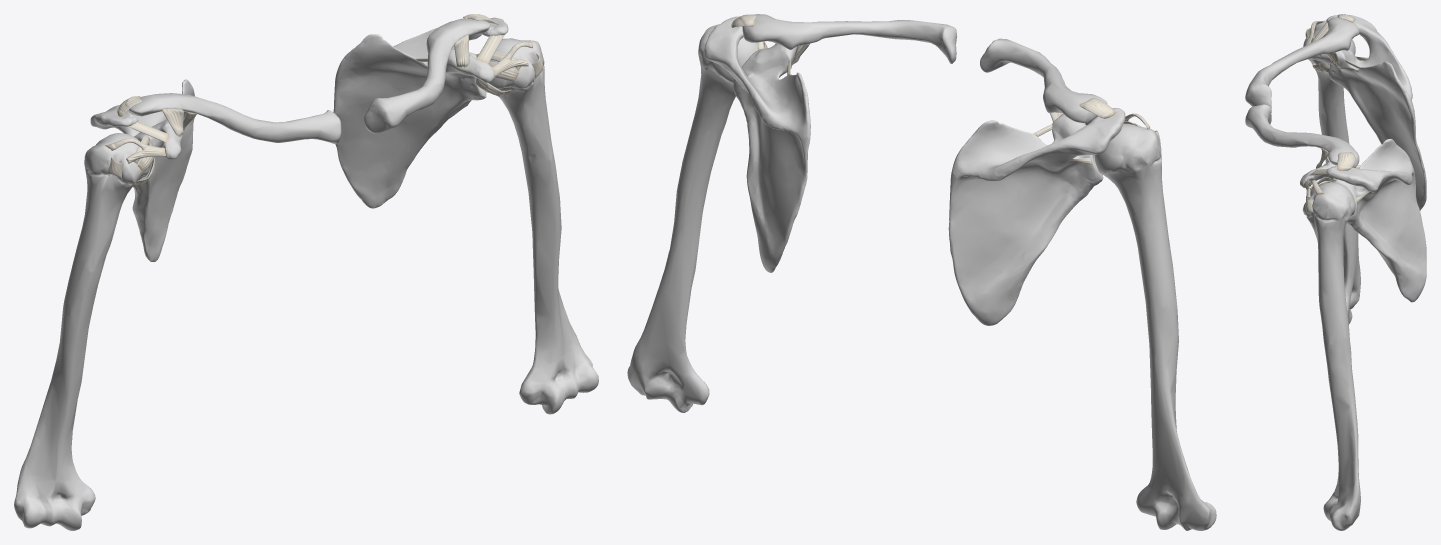
The model's file is shoulder-review-fiber.glb.
3 views of the same model, side by side, from view 1: azimuth 30°, elevation 25°; view 2: azimuth 150°, elevation 25°; view 3: azimuth 270°, elevation 25° (orthographic). The views are drawn at different scales.
Visible parts, largest first — view 1: bone_Humerus_r, bone_Scapula_l, bone_Humerus_l, bone_Scapula_r, bone_Clavicle_r, bone_Clavicle_l; view 2: bone_Scapula_r, bone_Humerus_r, bone_Humerus_l, bone_Scapula_l, bone_Clavicle_l, bone_Clavicle_r; view 3: bone_Humerus_l, bone_Scapula_l, bone_Scapula_r, bone_Humerus_r, bone_Clavicle_r, bone_Clavicle_l, z_lig_acromioclavicular_ligament_L__refined.
Part boxes in pixels (x1,y1,x2,y2): bone_Humerus_r: (14, 133, 149, 530); bone_Scapula_l: (333, 17, 508, 208); bone_Humerus_l: (484, 38, 598, 414); bone_Scapula_r: (90, 79, 194, 261); bone_Clavicle_r: (128, 93, 341, 143); bone_Clavicle_l: (364, 18, 490, 133); bone_Scapula_r: (948, 108, 1125, 325); bone_Humerus_r: (1094, 123, 1216, 530); bone_Humerus_l: (627, 24, 758, 412); bone_Scapula_l: (704, 16, 810, 272); bone_Clavicle_l: (742, 14, 957, 63); bone_Clavicle_r: (980, 38, 1107, 122); bone_Humerus_l: (1302, 182, 1360, 530); bone_Scapula_l: (1300, 138, 1426, 302); bone_Scapula_r: (1308, 15, 1426, 210); bone_Humerus_r: (1303, 20, 1360, 324); bone_Clavicle_r: (1245, 17, 1359, 108); bone_Clavicle_l: (1245, 104, 1359, 167); z_lig_acromioclavicular_ligament_L__refined: (1337, 152, 1355, 170).
Bounding box in the file's own units: 0.4977 × 0.3388 × 0.1633.
